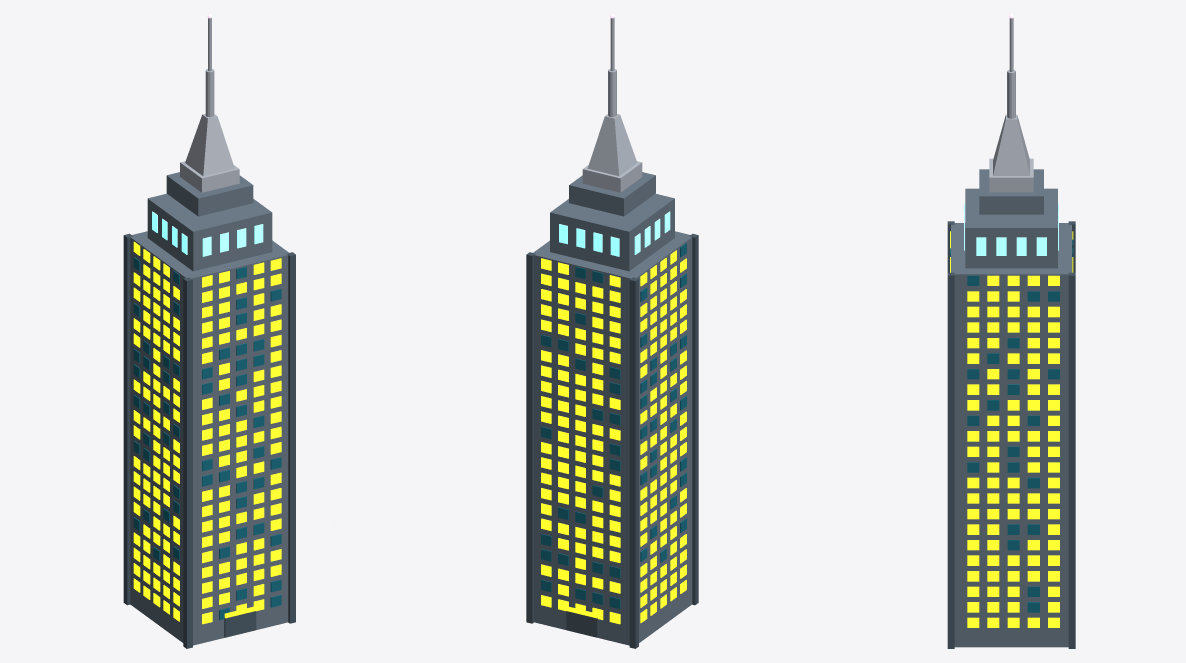
File: skyscraper_demolition.glb
The picture shows the model from 3 angles, left to right: view 1: azimuth 30°, elevation 25°; view 2: azimuth 150°, elevation 25°; view 3: azimuth 270°, elevation 25°; orthographic projection.
Parts seen in each view (by area): view 1: Slab_5, Slab_0, Slab_4, Slab_2, Slab_1, Slab_3, Crown_Penthouse, SpireStep1, SpirePyramid, SpireStep2, Door_-1, Pillar_5_-3.0_-3.0 (+5 smaller); view 2: Slab_5, Slab_0, Slab_4, Slab_2, Slab_3, Slab_1, Crown_Penthouse, SpireStep1, SpirePyramid, SpireStep2, Door_1, Pillar_5_-3.0_3.0 (+6 smaller); view 3: Slab_5, Slab_0, Crown_Penthouse, Slab_2, Slab_4, Slab_3, Slab_1, SpireStep1, SpirePyramid, SpireStep2, Pillar_5_3.0_-3.0, Pillar_5_3.0_3.0.
Part boxes in pixels (x1,y1,x2,y2): Slab_5: (130, 231, 288, 339); Slab_0: (130, 543, 288, 645); Slab_4: (130, 298, 288, 400); Slab_2: (130, 421, 288, 522); Slab_1: (130, 482, 288, 584); Slab_3: (130, 360, 288, 461); Crown_Penthouse: (147, 193, 272, 271); SpireStep1: (166, 172, 253, 216); SpirePyramid: (185, 114, 234, 176); SpireStep2: (180, 161, 239, 192); Door_-1: (224, 611, 256, 637); Pillar_5_-3.0_-3.0: (183, 277, 192, 342); Slab_5: (533, 231, 692, 339); Slab_0: (534, 543, 692, 645); Slab_4: (534, 298, 692, 400); Slab_2: (534, 421, 692, 522); Slab_3: (534, 360, 692, 461); Slab_1: (534, 482, 692, 584); Crown_Penthouse: (550, 193, 674, 271); SpireStep1: (569, 172, 655, 216); SpirePyramid: (587, 114, 637, 176); SpireStep2: (582, 161, 642, 192); Door_1: (566, 611, 598, 637); Pillar_5_-3.0_3.0: (629, 277, 638, 342); Slab_5: (951, 223, 1071, 336); Slab_0: (954, 585, 1068, 647); Crown_Penthouse: (965, 188, 1057, 268); Slab_2: (954, 460, 1068, 522); Slab_4: (954, 336, 1068, 398); Slab_3: (954, 398, 1068, 460); Slab_1: (954, 523, 1068, 584); SpireStep1: (979, 169, 1043, 214); SpirePyramid: (993, 114, 1029, 175); SpireStep2: (989, 158, 1033, 192); Pillar_5_3.0_-3.0: (947, 272, 954, 337); Pillar_5_3.0_3.0: (1068, 272, 1075, 337).
Size of what is drawn, in the model's own units: 19.09 by 33.23 by 17.69.
